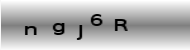6: (89, 13, 103, 27)
J: (76, 24, 84, 41)
R: (114, 17, 130, 32)
g: (51, 22, 65, 36)
n: (24, 25, 38, 36)
